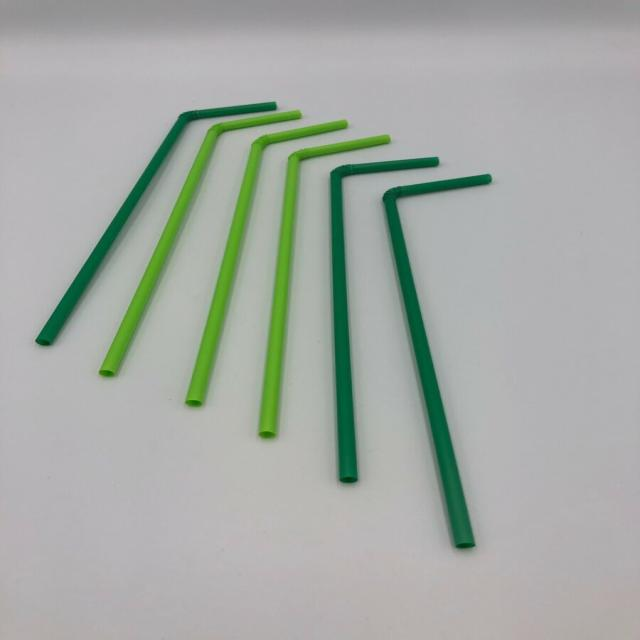straw: (35, 101, 277, 345), (98, 110, 302, 376), (185, 121, 347, 406), (383, 175, 492, 549), (260, 135, 390, 438), (330, 158, 438, 482)
